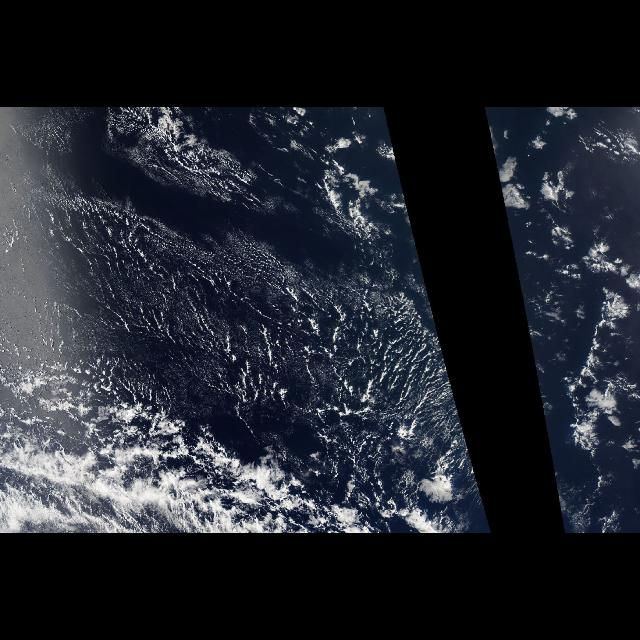Fish: (1, 402, 386, 534)
Sugar: (2, 114, 454, 430)
